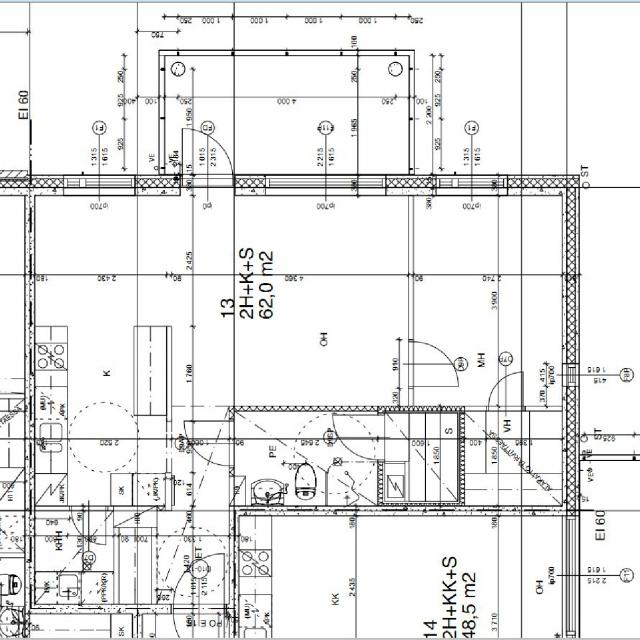door: (182, 124, 232, 196), (173, 552, 224, 613), (408, 341, 459, 386), (184, 420, 234, 465), (333, 415, 384, 459), (488, 370, 524, 410), (72, 505, 106, 545)
